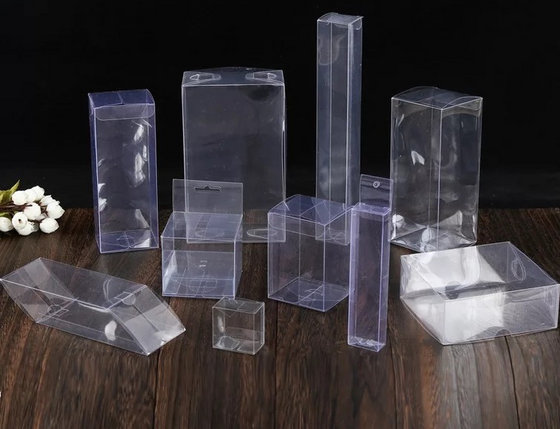PlasticBox: (1, 256, 188, 359), (395, 236, 560, 348), (84, 85, 161, 256), (208, 294, 268, 356)
